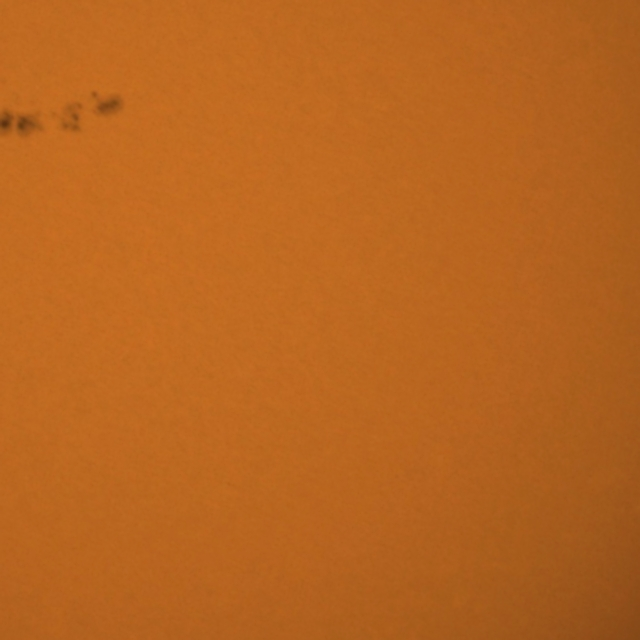sunspot: (63, 89, 124, 133), (0, 107, 54, 139)
